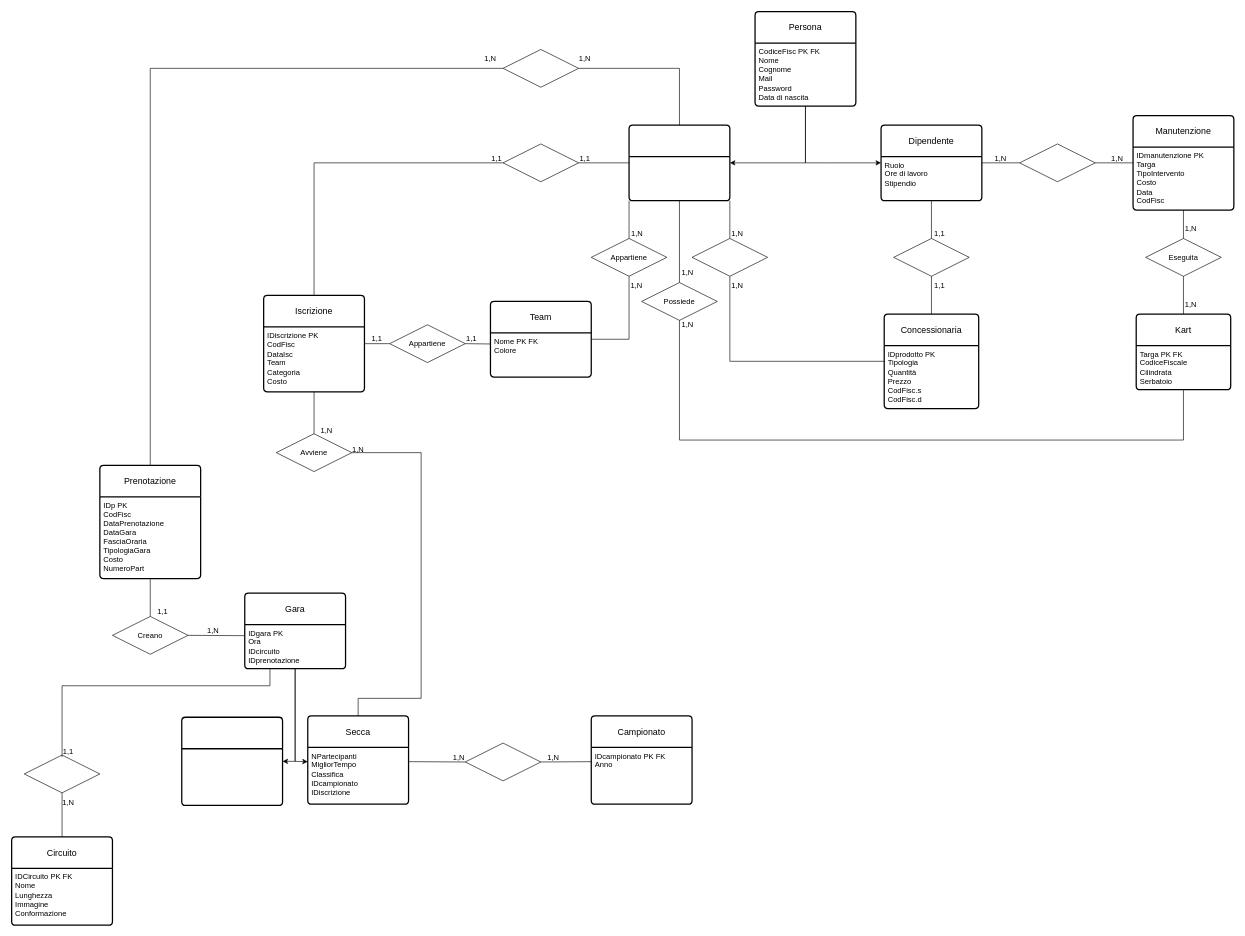
Image size: 1245x936. Some labels were removed from this diagram. Each missing label, with the centre of its shape:
Acquista: the point at 729,257
Effettua: the point at 1057,162
Esegue: the point at 540,162
Fa: the point at 540,68
Gestisce: the point at 931,257
Libera: the point at 232,761
Partecipa: the point at 503,761
Socio: the point at 679,162
Svolta: the point at 62,773
